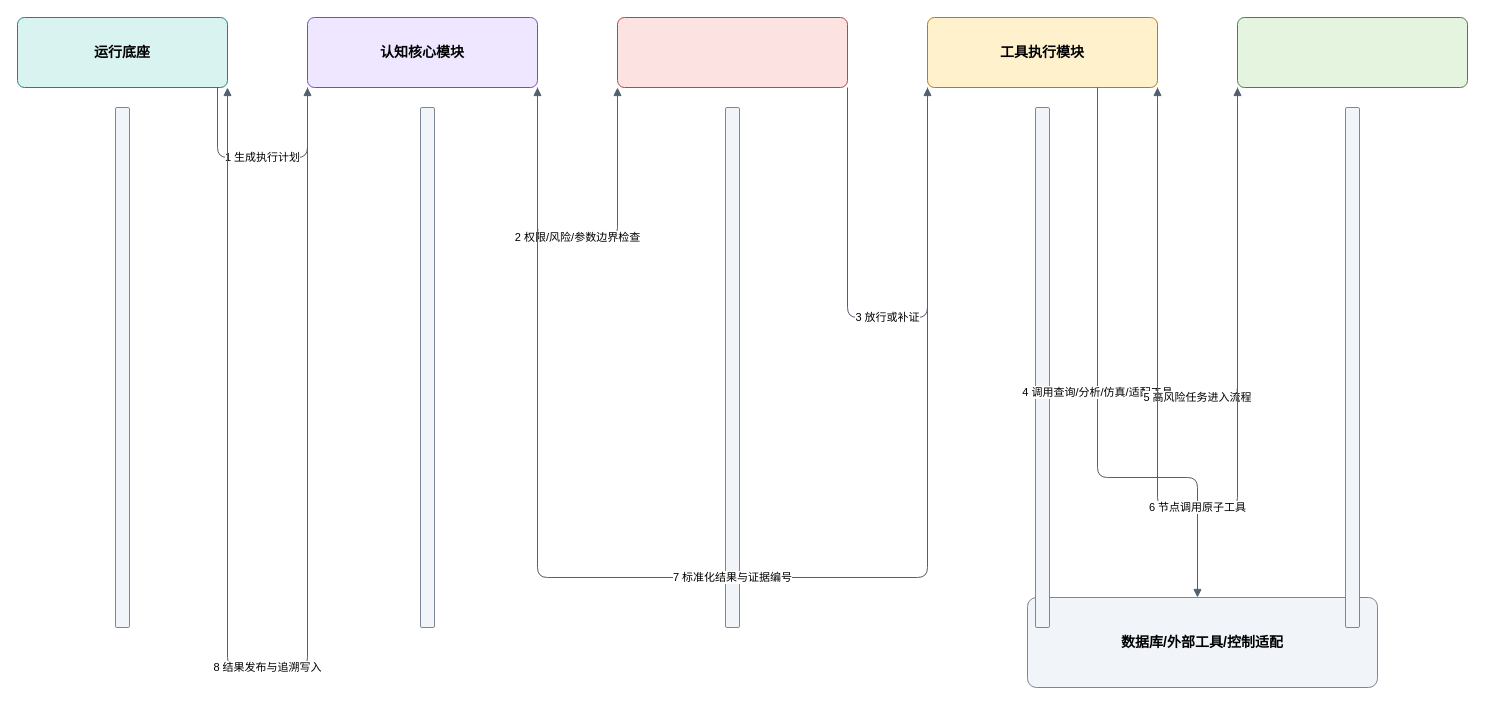
This 1485x705 diagram has some shape labels left out. Here are the shapes that lost their labels. From the top down, the box of each, then its label:
(616, 16, 848, 88): 安全门控组件
(1236, 16, 1468, 88): 工作流引擎
